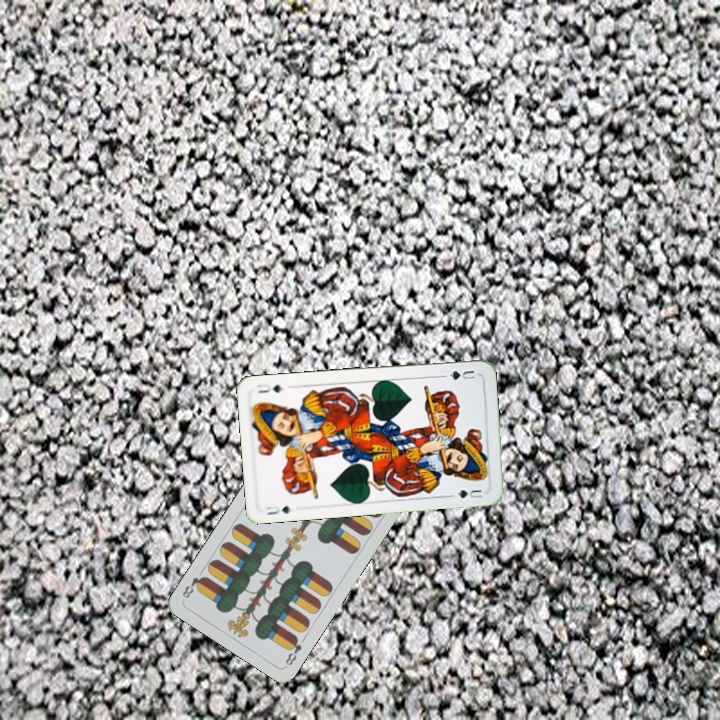E8: (281, 632, 305, 668)
GU: (446, 366, 477, 383), (262, 501, 293, 517)
